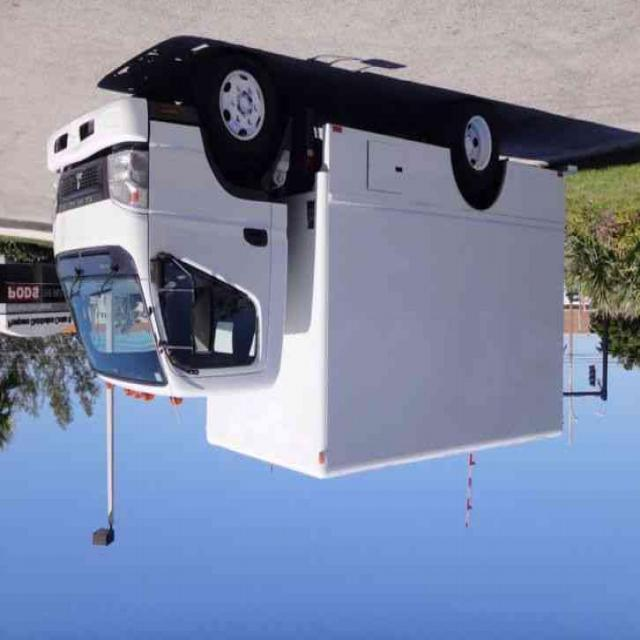truck: (46, 54, 565, 482)
